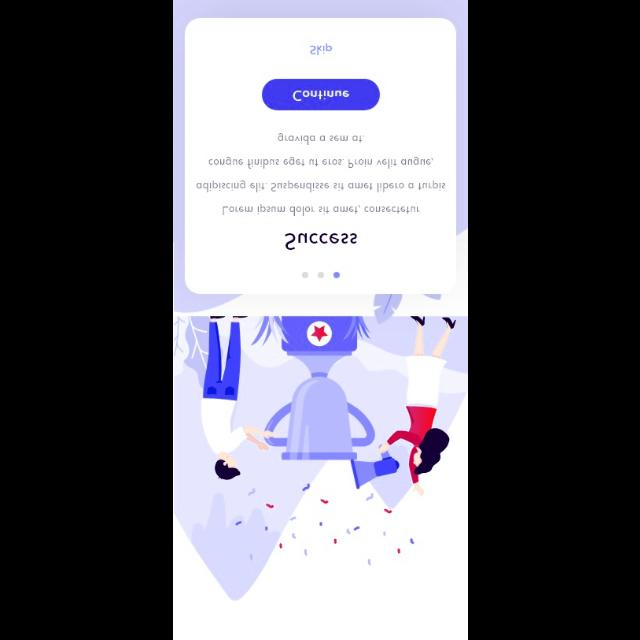image: (173, 294, 467, 640)
pageindicator: (300, 270, 340, 280)
panel: (183, 17, 457, 295)
text: (195, 133, 445, 217), (284, 232, 358, 250), (310, 42, 332, 56)
textbutton: (262, 78, 381, 110)
